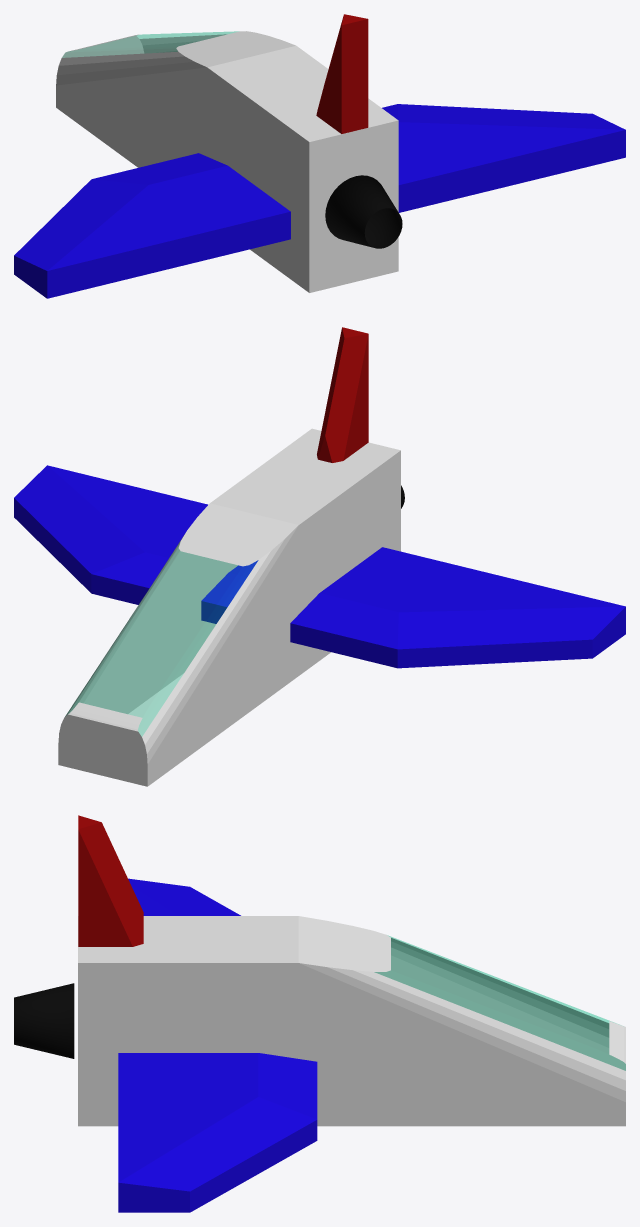
Rendered from spacePlane.glb.
The picture shows the model from 3 angles, top to bottom: view 1: azimuth 30°, elevation 25°; view 2: azimuth 150°, elevation 25°; view 3: azimuth 270°, elevation 25°; orthographic projection. The views are drawn at different scales.
Visible parts, largest first — view 1: Cube, Cube.003, Cube.002, Cube.001, Circle; view 2: Cube, Cube.003, Cube.002, Cube.001; view 3: Cube, Cube.002, Cube.001, Circle, Cube.003.
Part boxes in pixels (x1,y1,x2,y2): Cube: (56, 31, 398, 292); Cube.003: (14, 153, 290, 298); Cube.002: (382, 104, 625, 212); Cube.001: (316, 14, 368, 133); Circle: (325, 175, 402, 248); Cube: (58, 428, 400, 786); Cube.003: (290, 547, 625, 668); Cube.002: (14, 465, 258, 623); Cube.001: (317, 327, 368, 462); Cube: (78, 916, 625, 1126); Cube.002: (118, 1053, 317, 1212); Cube.001: (78, 815, 143, 946); Circle: (14, 983, 74, 1058); Cube.003: (128, 878, 240, 915).
Bounding box in the file's own units: 3.38 × 1.45 × 2.86.
